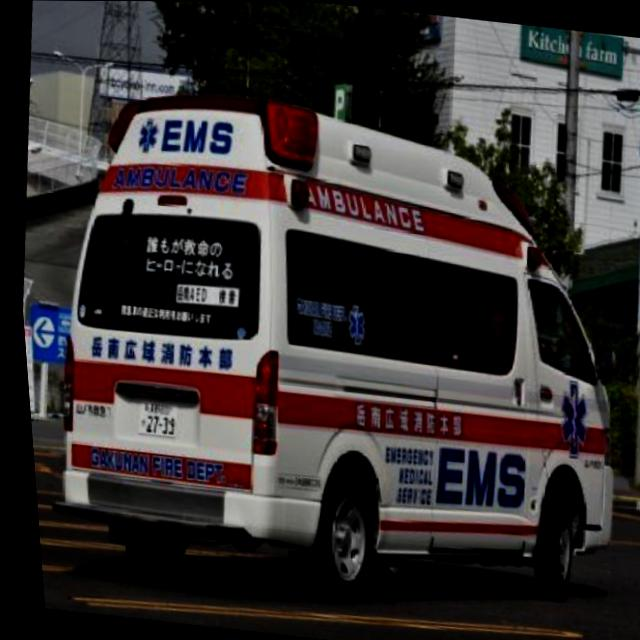emergency: (11, 72, 640, 631)
